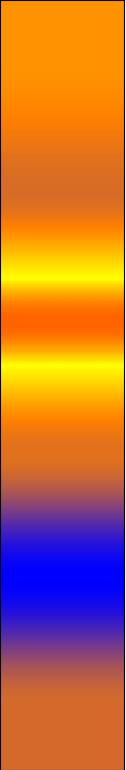Thermal Runaway: (10, 225, 116, 439), (9, 8, 111, 129)
critical: (10, 651, 112, 766), (11, 149, 106, 201), (10, 451, 118, 483)
safe: (9, 493, 115, 641)
